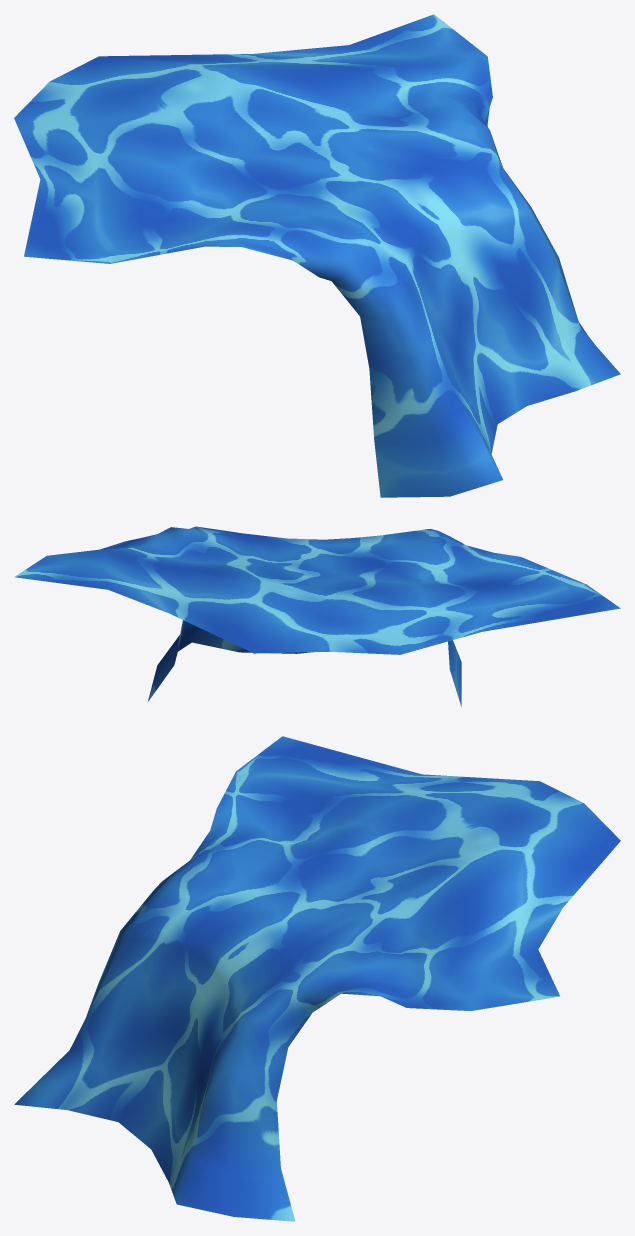
The model's file is SalaLagoVeraoCachoeira.fbx.
The picture shows the model from 3 angles, top to bottom: view 1: azimuth 30°, elevation 25°; view 2: azimuth 150°, elevation 25°; view 3: azimuth 270°, elevation 25°; orthographic projection. The views are drawn at different scales.
Visible parts, largest first — view 1: Cachoeira.001; view 2: Cachoeira.001; view 3: Cachoeira.001.
Part boxes in pixels (x1,y1,x2,y2): Cachoeira.001: (14, 14, 620, 497); Cachoeira.001: (14, 526, 620, 706); Cachoeira.001: (14, 736, 620, 1221).
Size of the model in its own units: 181 by 85.24 by 173.
